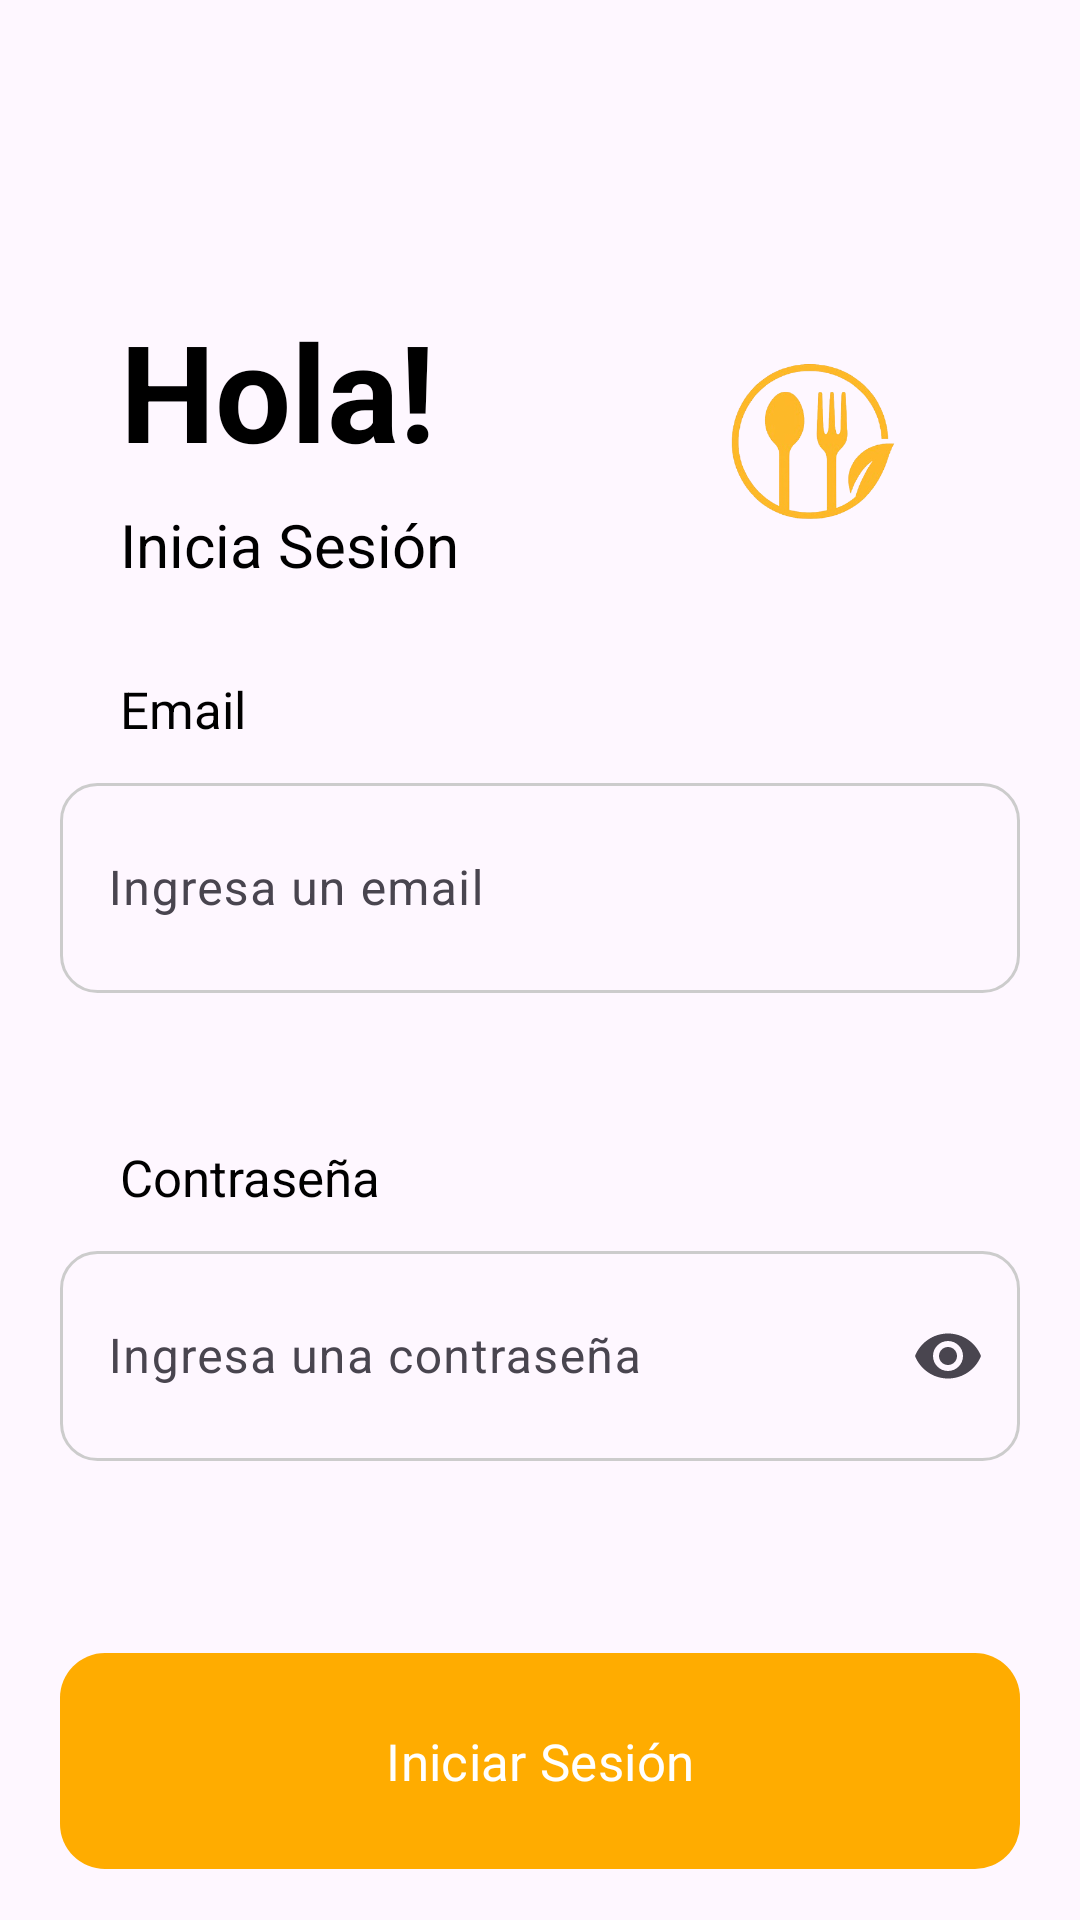

Icons on this 1080w x 1920h Android screen, each with the point to tap as point (x, y):
feedo: point (813, 441)
